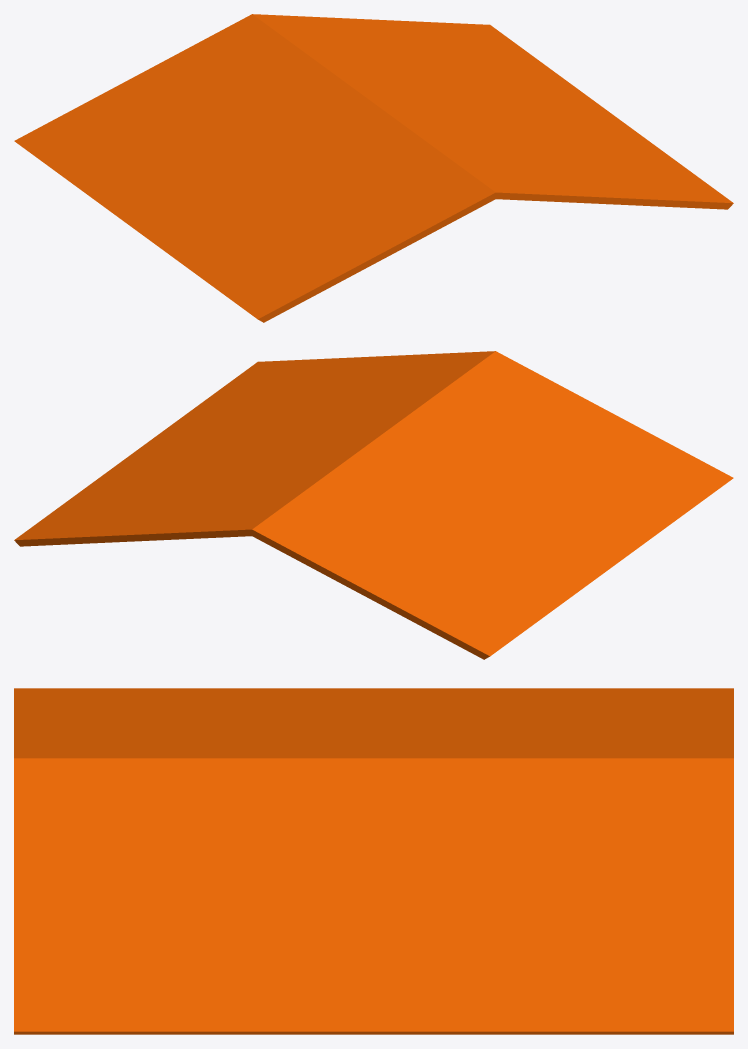
The model's file is Roof.fbx.
3 views of the same model, one above another, from view 1: azimuth 30°, elevation 25°; view 2: azimuth 150°, elevation 25°; view 3: azimuth 270°, elevation 25° (orthographic). The views are drawn at different scales.
Visible parts, largest first — view 1: Roof; view 2: Roof; view 3: Roof.
Boxes of the visible parts, x1=… form: Roof: x1=14, y1=14, x2=733, y2=322; Roof: x1=14, y1=351, x2=733, y2=659; Roof: x1=14, y1=688, x2=733, y2=1034.
Bounding box in the file's own units: 8673 × 1283 × 7688.
